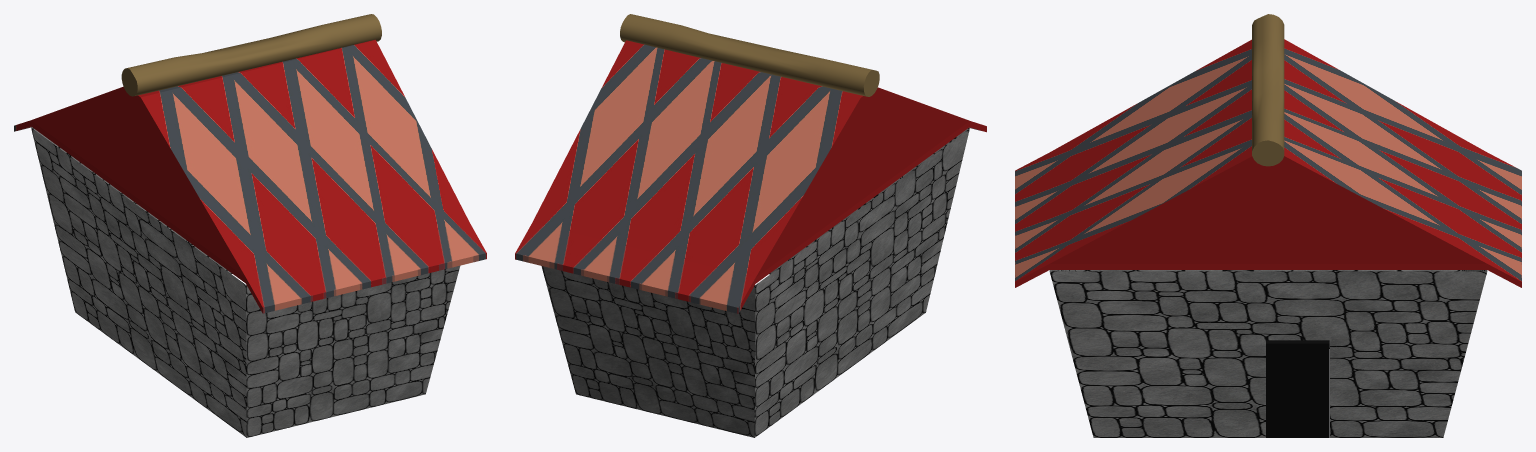
File: WaxWorld_LargeHouse.fbx
3 views of the same model, side by side, from view 1: azimuth 30°, elevation 25°; view 2: azimuth 150°, elevation 25°; view 3: azimuth 270°, elevation 25° (orthographic). The views are drawn at different scales.
Visible parts, largest first — view 1: Object001, Box002, Object003, Cylinder002; view 2: Object001, Box002, Object003, Cylinder002; view 3: Box002, Object001, Object002, Box003, Cylinder002.
Part boxes in pixels (bbox=[...]): Object001: bbox=[14, 39, 486, 313]; Box002: bbox=[31, 127, 460, 437]; Object003: bbox=[31, 86, 245, 283]; Cylinder002: bbox=[121, 14, 381, 96]; Object001: bbox=[515, 40, 986, 313]; Box002: bbox=[541, 128, 969, 437]; Object003: bbox=[755, 87, 969, 283]; Cylinder002: bbox=[620, 14, 879, 96]; Box002: bbox=[1049, 270, 1487, 437]; Object001: bbox=[1015, 39, 1521, 287]; Object002: bbox=[1049, 156, 1487, 269]; Box003: bbox=[1266, 340, 1329, 437]; Cylinder002: bbox=[1252, 14, 1284, 166].
Size of the model in its own units: 246 by 302 by 433.
Materials: 4 (3 with a texture image).
